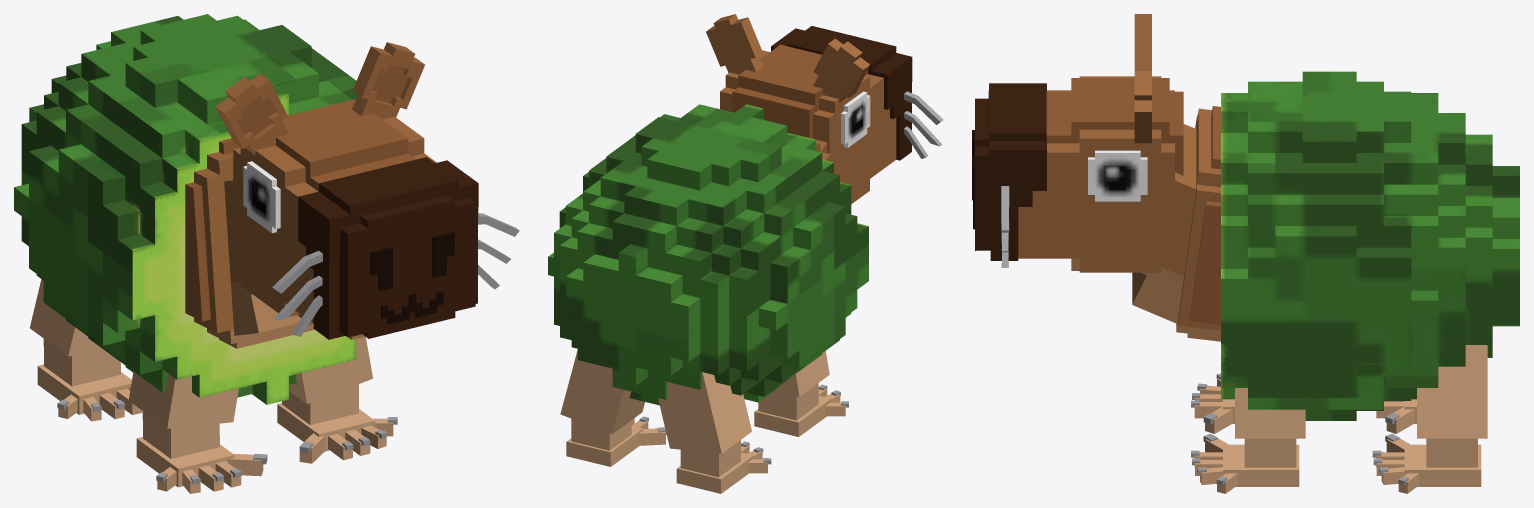
The model's file is pipiAvocado.fbx.
3 renders of one model, left to right at view 1: azimuth 30°, elevation 25°; view 2: azimuth 150°, elevation 25°; view 3: azimuth 270°, elevation 25°, orthographic. The views are drawn at different scales.
Parts seen in each view (by area): view 1: pipiAvocado; view 2: pipiAvocado; view 3: pipiAvocado.
Part boxes in pixels (x1,y1,x2,y2): pipiAvocado: (14, 14, 519, 493); pipiAvocado: (548, 14, 943, 493); pipiAvocado: (972, 14, 1519, 493).
Bounding box in the file's own units: 410 × 583 × 729.
